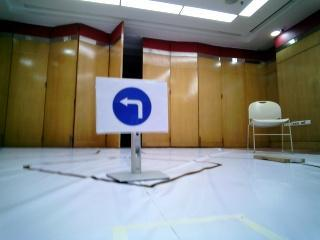left: (99, 79, 163, 131)
